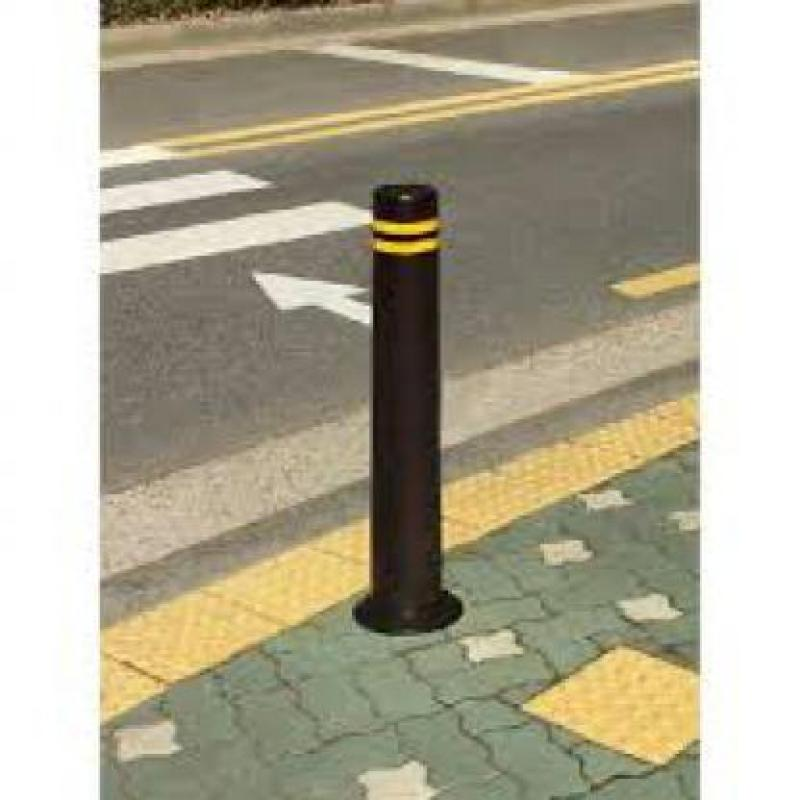bolard: (323, 181, 505, 632)
